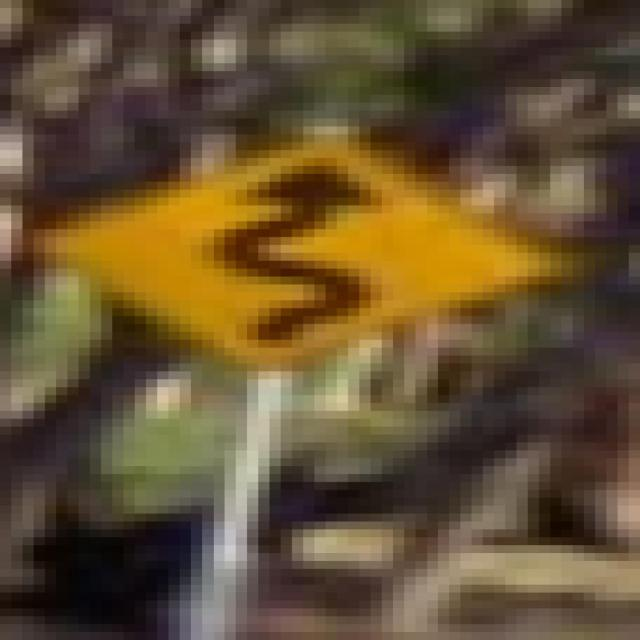Banyak Tikungan Pertama Kanan: (0, 110, 562, 372)
